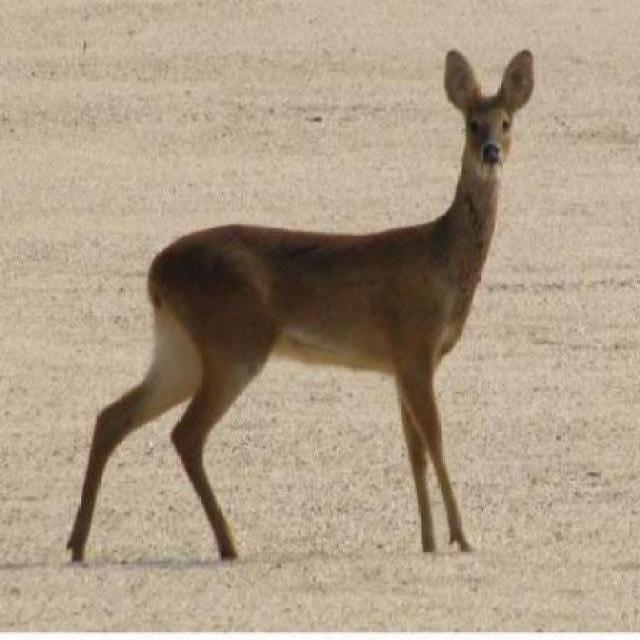deer: (62, 45, 544, 580)
